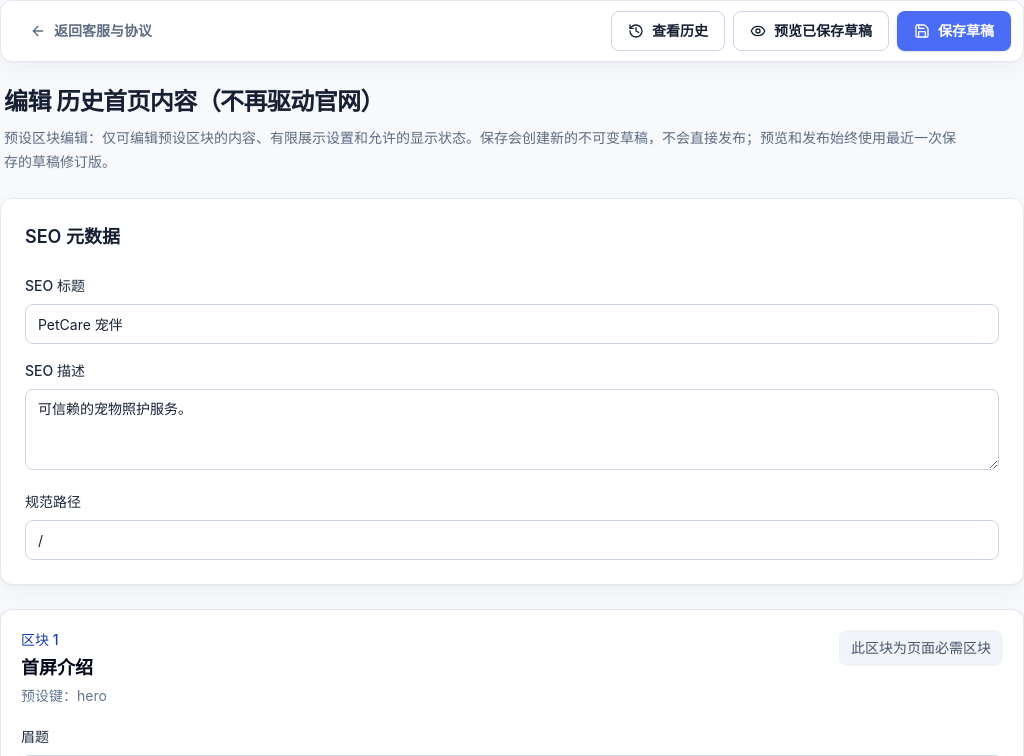
Test: WebsiteContentEdit › blocks save until required SEO and change-summary fields are present
The image size is (1024, 756).
Clear the field labelled "SEO 标题" at [512, 324], box [25,304,999,344]
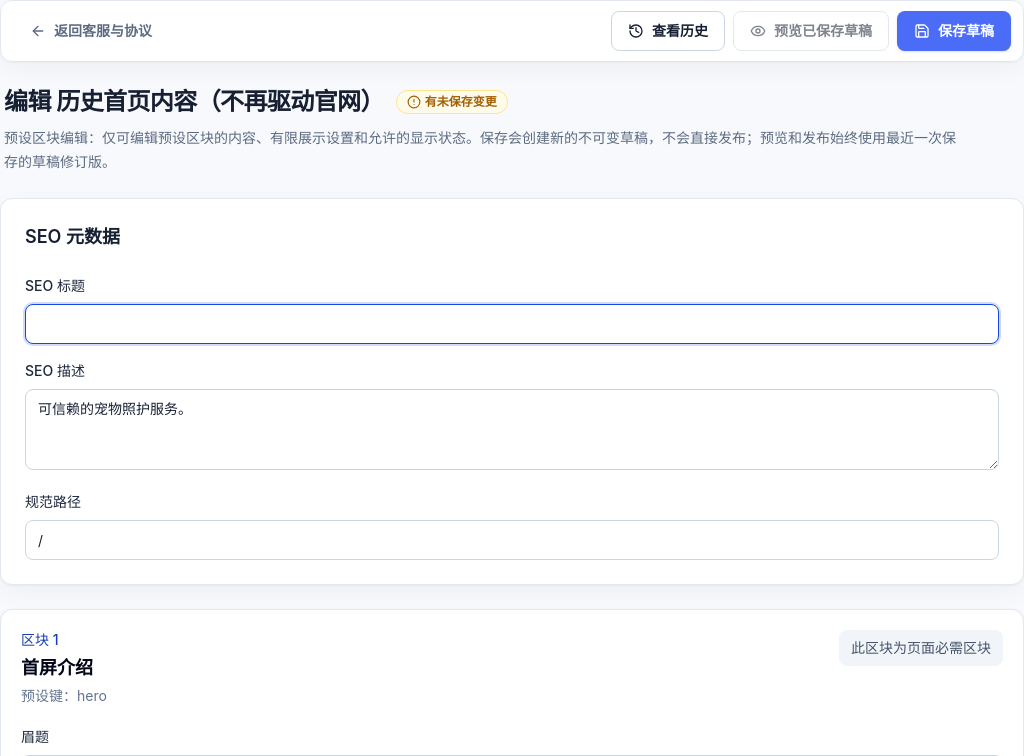
Click the button "保存草稿" at [954, 31], box [897,11,1011,51]
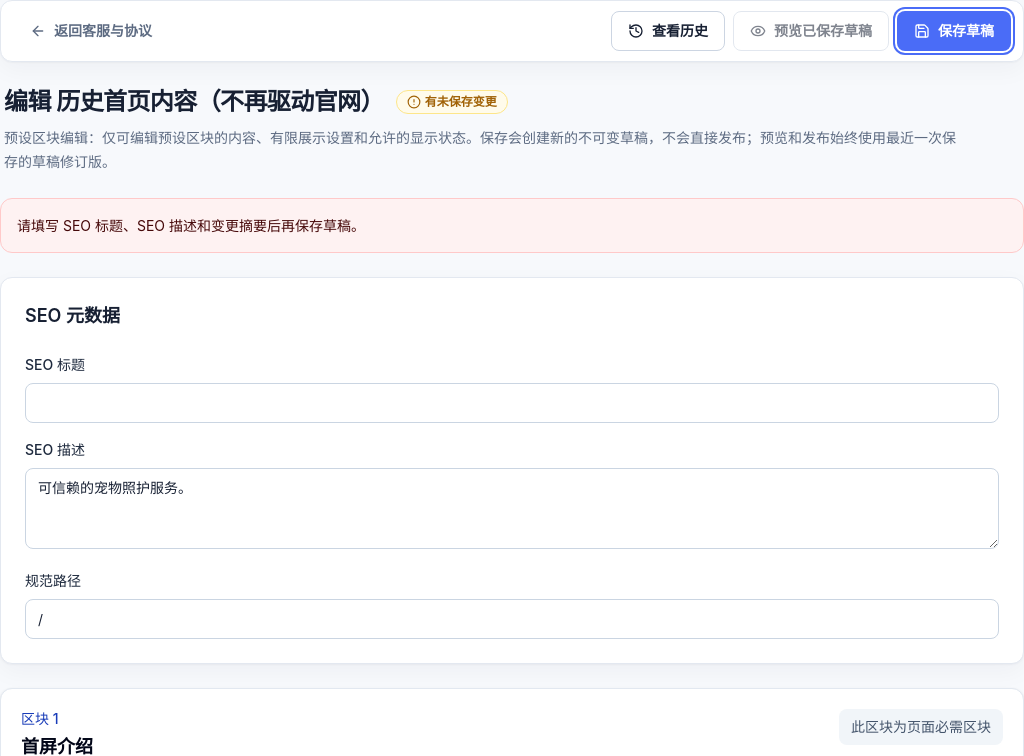
Expected: the text "请填写 SEO 标题、SEO 描述和变更摘要后再保存草稿。" is shown, [0,198,1023,253]
